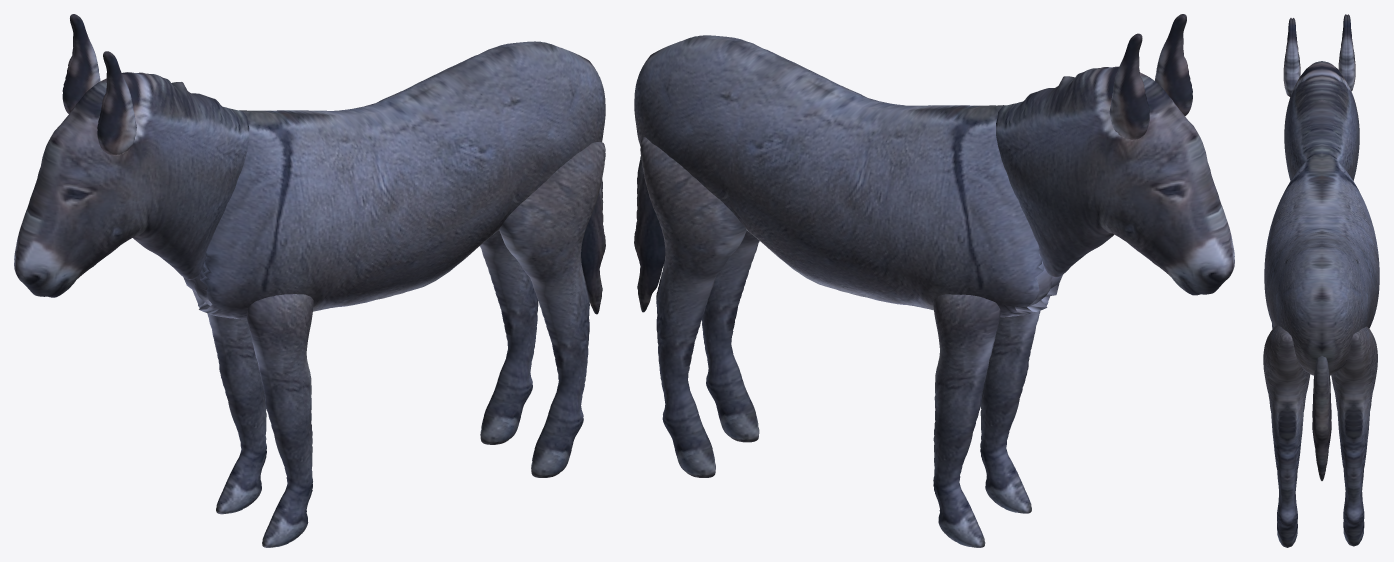
File: free_donkeyburro.glb
3 views of the same model, side by side, from view 1: azimuth 30°, elevation 25°; view 2: azimuth 150°, elevation 25°; view 3: azimuth 270°, elevation 25° (orthographic). The views are drawn at different scales.
Parts seen in each view (by area): view 1: mm_frame_copy_3_0, mm_frame_copy_2_6, backleg_4, frontleg_2, backleg001_5, frontleg001_3, mm_frame_copy_7, mm_frame_copy001_8, mm_frame_copy_4_1; view 2: mm_frame_copy_3_0, mm_frame_copy_2_6, backleg001_5, frontleg001_3, frontleg_2, backleg_4, mm_frame_copy001_8, mm_frame_copy_4_1, mm_frame_copy_7; view 3: mm_frame_copy_3_0, mm_frame_copy_2_6, backleg_4, backleg001_5, mm_frame_copy_4_1, mm_frame_copy_7, mm_frame_copy001_8.
Part boxes in pixels (<box>): mm_frame_copy_3_0: <box>183,41,605,319</box>; mm_frame_copy_2_6: <box>14,72,249,297</box>; backleg_4: <box>499,142,605,477</box>; frontleg_2: <box>247,294,313,547</box>; backleg001_5: <box>480,230,538,444</box>; frontleg001_3: <box>207,313,266,514</box>; mm_frame_copy_7: <box>97,51,136,155</box>; mm_frame_copy001_8: <box>62,14,100,113</box>; mm_frame_copy_4_1: <box>581,179,605,314</box>; mm_frame_copy_3_0: <box>634,35,1062,317</box>; mm_frame_copy_2_6: <box>996,66,1234,295</box>; backleg001_5: <box>640,137,746,477</box>; frontleg001_3: <box>933,294,1000,547</box>; frontleg_2: <box>980,310,1040,513</box>; backleg_4: <box>702,230,759,442</box>; mm_frame_copy001_8: <box>1109,33,1149,139</box>; mm_frame_copy_4_1: <box>634,156,665,312</box>; mm_frame_copy_7: <box>1154,14,1192,116</box>; mm_frame_copy_3_0: <box>1264,153,1379,375</box>; mm_frame_copy_2_6: <box>1284,61,1359,180</box>; backleg_4: <box>1263,325,1310,547</box>; backleg001_5: <box>1331,326,1377,546</box>; mm_frame_copy_4_1: <box>1312,356,1331,480</box>; mm_frame_copy_7: <box>1283,18,1300,96</box>; mm_frame_copy001_8: <box>1338,14,1355,91</box>.
Bounding box in the file's own units: 1.87 × 1.64 × 0.4497.
9 materials, 9 textured.
